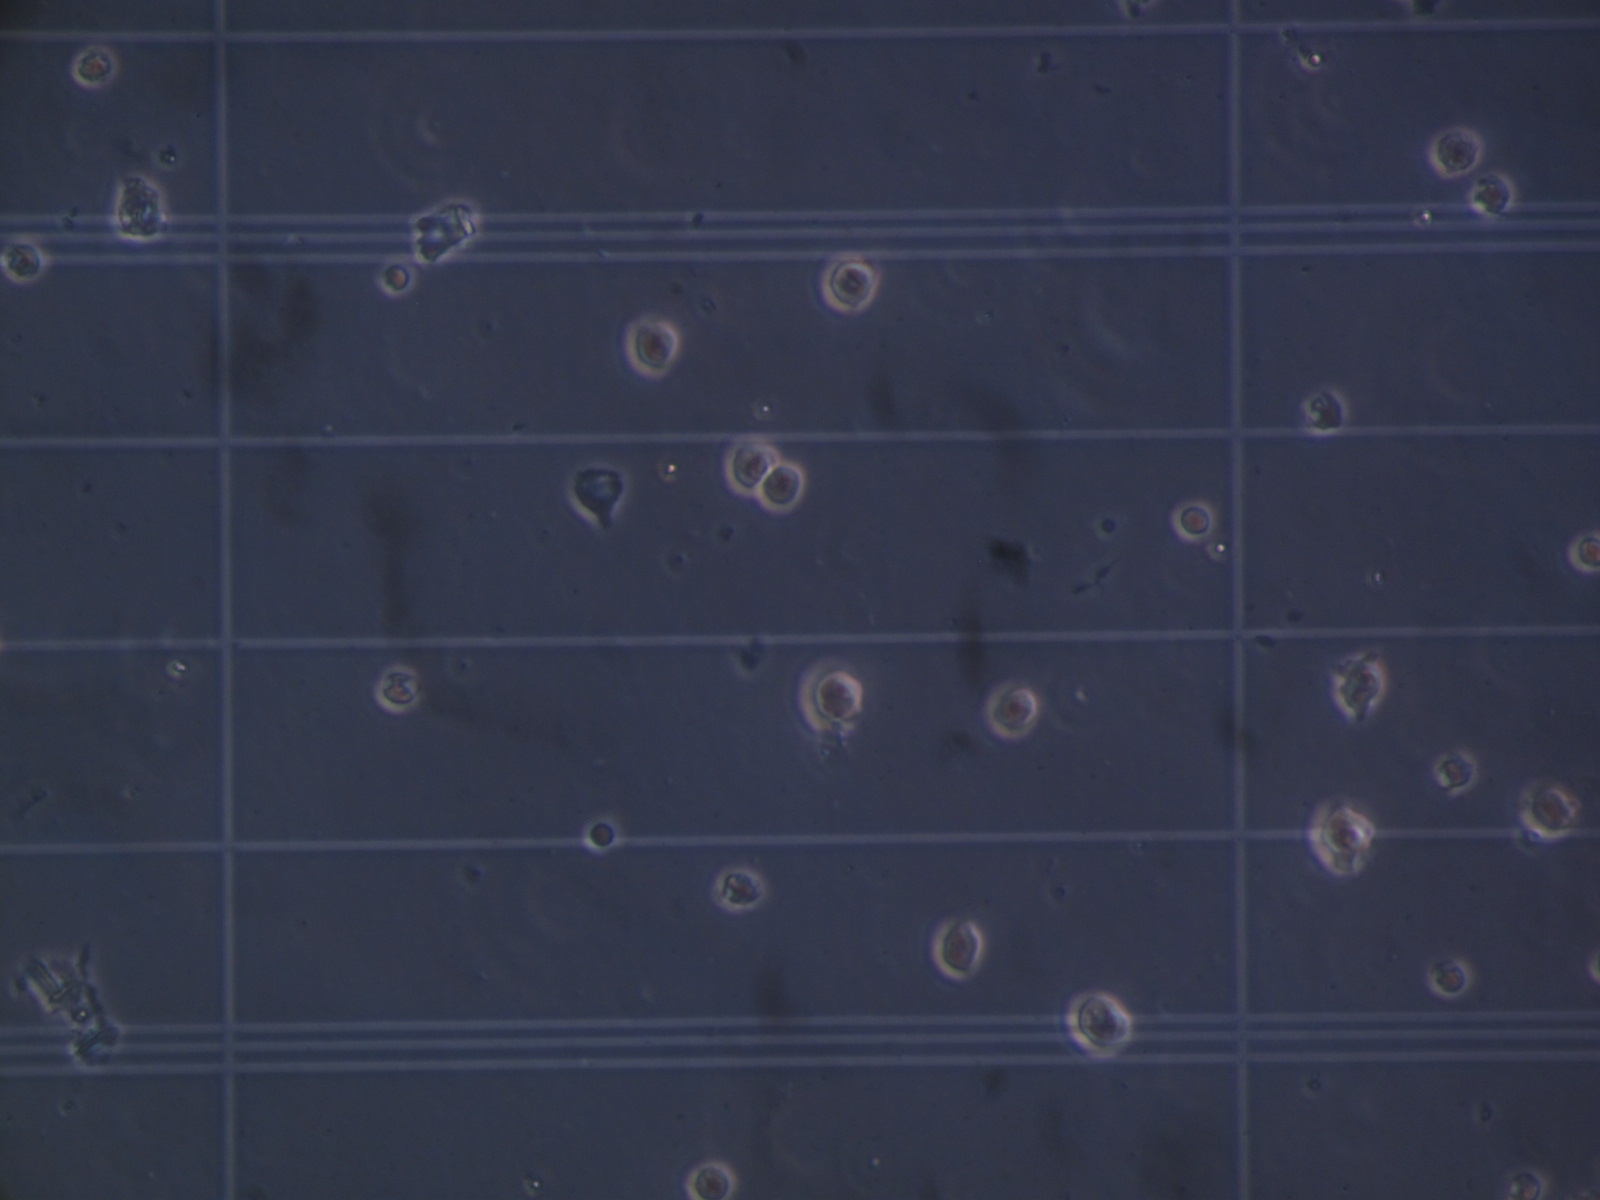hemo: (795, 655, 866, 735), (1306, 799, 1374, 874), (1062, 987, 1133, 1058), (819, 250, 879, 313), (983, 678, 1042, 741), (626, 314, 680, 382), (930, 914, 984, 982), (1518, 778, 1576, 841), (571, 464, 630, 523), (722, 436, 780, 495), (1333, 653, 1385, 717), (116, 176, 165, 241), (1431, 124, 1483, 179), (756, 460, 806, 511), (375, 662, 425, 713), (684, 1158, 740, 1200), (1, 234, 48, 284), (72, 44, 121, 89), (1303, 384, 1348, 434), (716, 868, 766, 913), (1434, 747, 1479, 795), (1471, 171, 1516, 219), (1172, 497, 1216, 542), (1430, 958, 1471, 1002), (379, 253, 420, 297), (583, 811, 621, 855), (1566, 534, 1600, 572), (1507, 1172, 1550, 1200)
